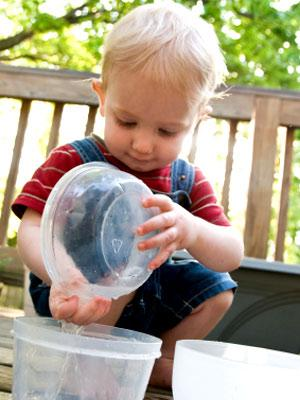person: (11, 5, 246, 393)
